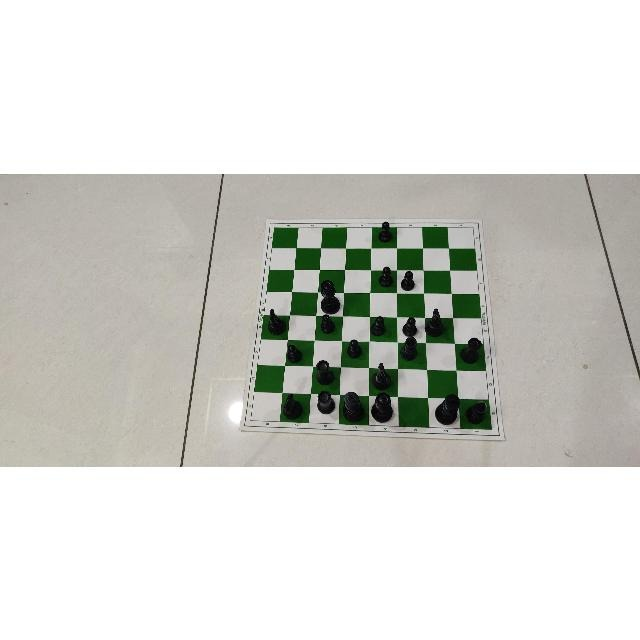black-bishop: (464, 397, 489, 426), (465, 399, 488, 424), (399, 335, 420, 361), (400, 335, 418, 361)
black-king: (435, 389, 461, 425), (434, 393, 461, 425), (341, 390, 364, 422), (343, 391, 364, 423)
black-knight: (373, 360, 395, 392), (263, 307, 286, 336), (426, 305, 446, 336), (424, 307, 444, 337), (281, 393, 304, 419), (281, 392, 302, 420), (370, 362, 391, 390), (267, 307, 286, 335)
black-pawn: (378, 261, 396, 288), (317, 310, 337, 334), (347, 336, 365, 359), (400, 269, 418, 292), (369, 314, 387, 336), (286, 341, 303, 364), (401, 315, 418, 337), (377, 220, 393, 242), (377, 220, 392, 242), (286, 343, 302, 363), (346, 338, 362, 358), (402, 316, 418, 336), (320, 312, 335, 333), (370, 315, 385, 335), (400, 270, 415, 290), (379, 265, 393, 286)
black-queen: (317, 278, 342, 314), (319, 279, 341, 313), (370, 391, 393, 423), (371, 391, 393, 423)
black-rook: (459, 336, 485, 365), (459, 336, 482, 363), (315, 359, 335, 385), (316, 358, 334, 385), (315, 390, 335, 414), (316, 389, 335, 414)
